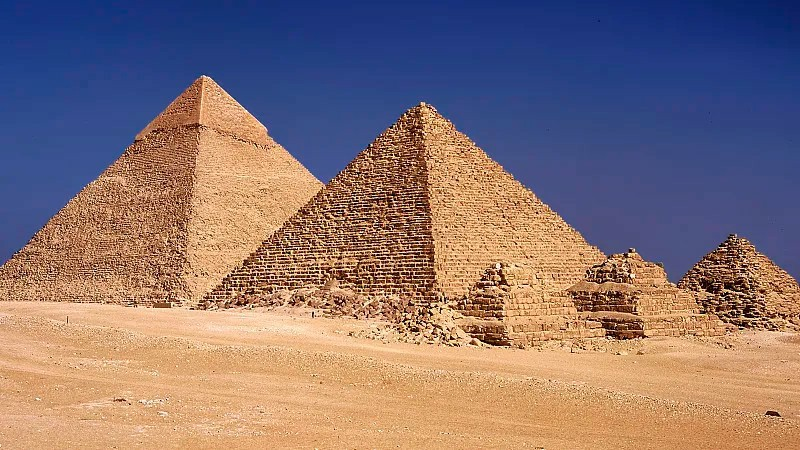Pyramid: (198, 100, 605, 320), (2, 72, 327, 302), (568, 248, 731, 342), (452, 262, 618, 349), (681, 236, 800, 337)
